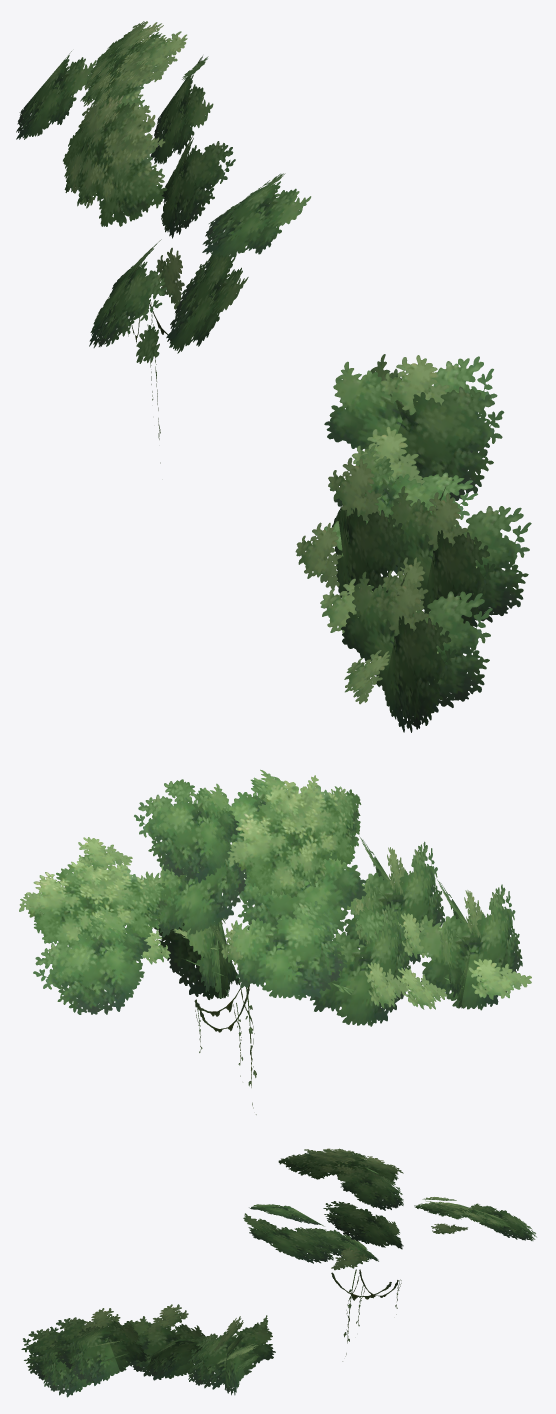
File: zhiwu_13.FBX
3 renders of one model, top to bottom at view 1: azimuth 30°, elevation 25°; view 2: azimuth 150°, elevation 25°; view 3: azimuth 270°, elevation 25°, orthographic. The views are drawn at different scales.
Parts seen in each view (by area): view 1: zhiwu_13; view 2: zhiwu_13; view 3: zhiwu_13.
Part boxes in pixels (bbox=[...]): zhiwu_13: bbox=[16, 21, 531, 732]; zhiwu_13: bbox=[19, 769, 531, 1114]; zhiwu_13: bbox=[21, 1148, 536, 1397].
Bounding box in the file's own units: 3.1 × 4.09 × 7.92.
